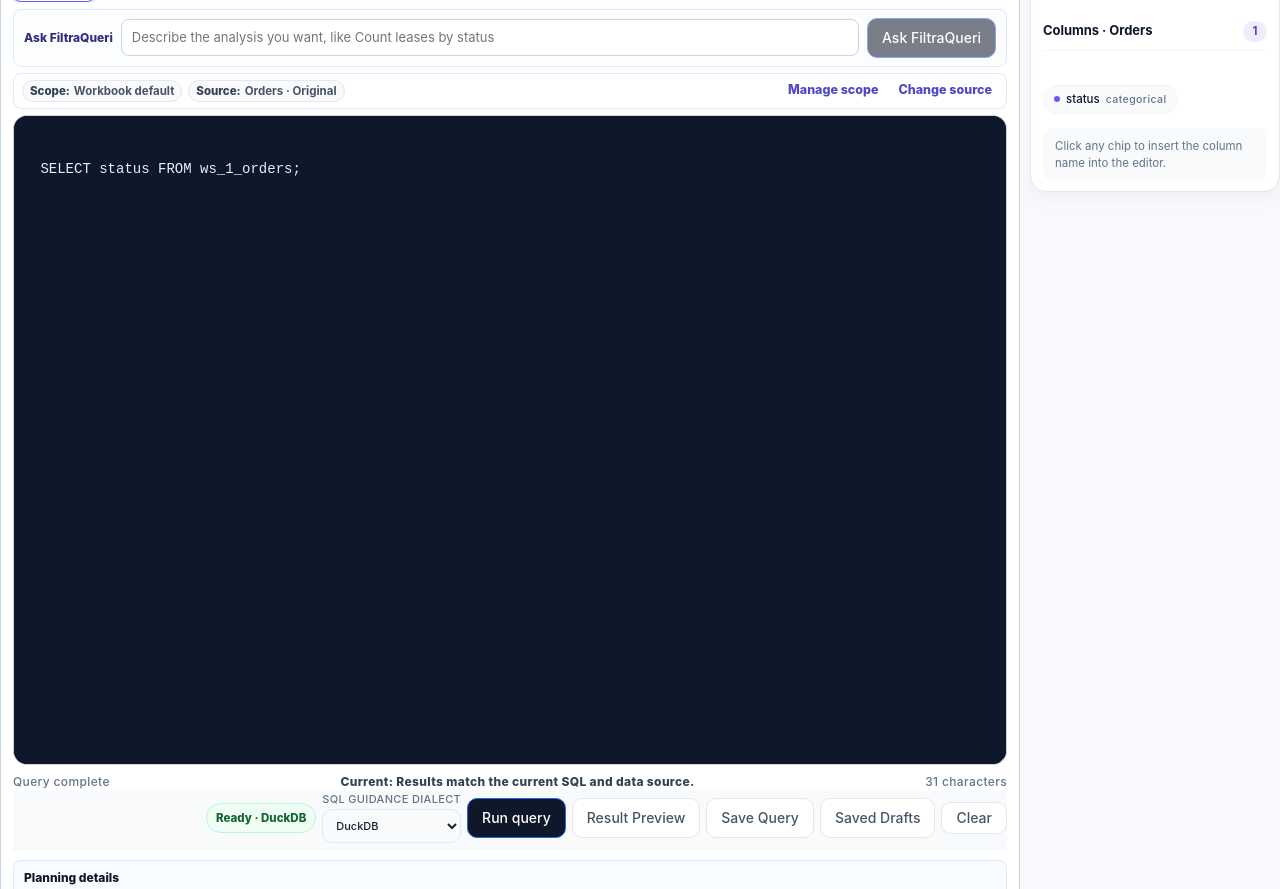
Test: SQL execution truthfulness UI › states that a successful zero-row query ran and returned 0 rows
(page scrolled)
Replace the text in the text box named "SQL query text" with "SELECT status FROM ws_1_orders WHERE status = 'Missing';": (510, 440) [14,116,1006,764]
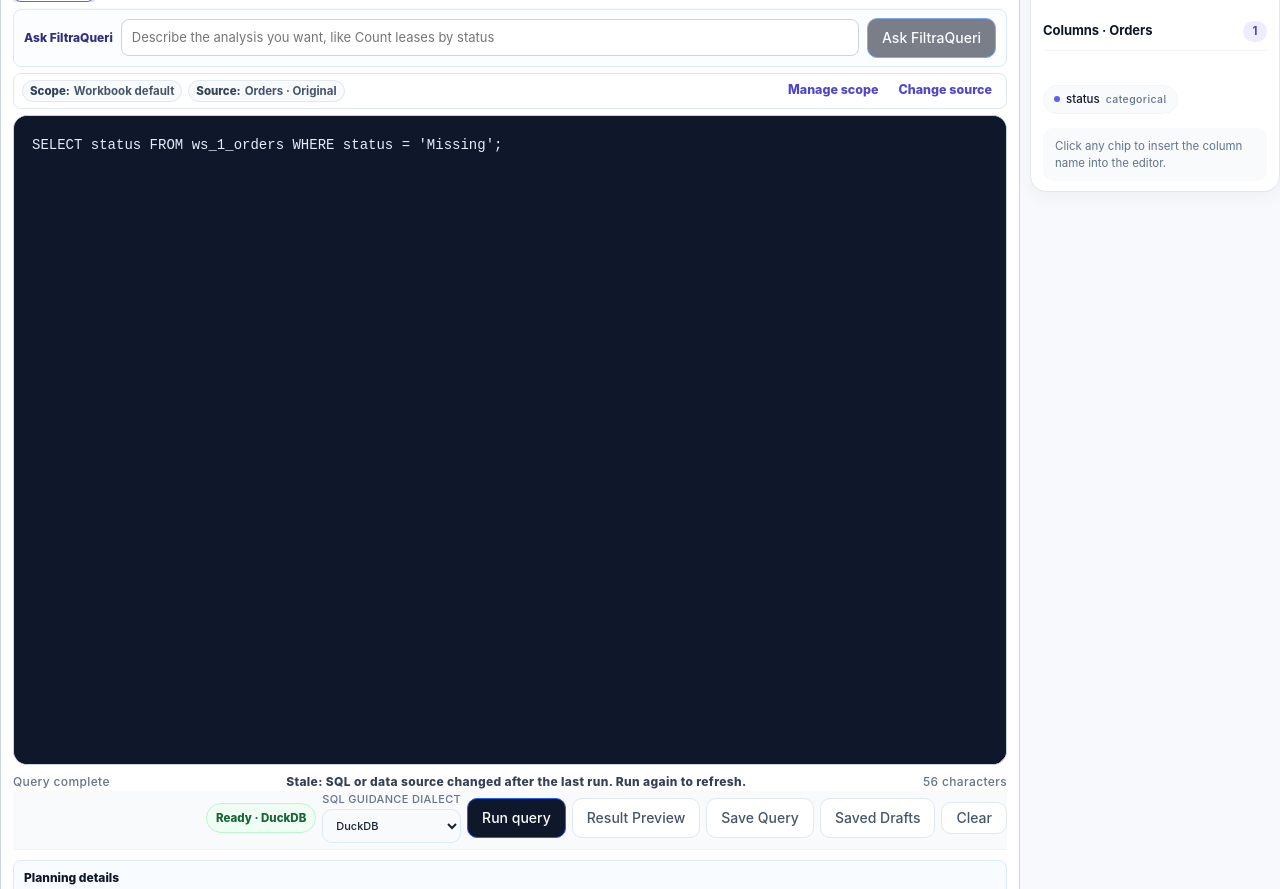
Click the button "Run query": (516, 818) [467,798,566,838]
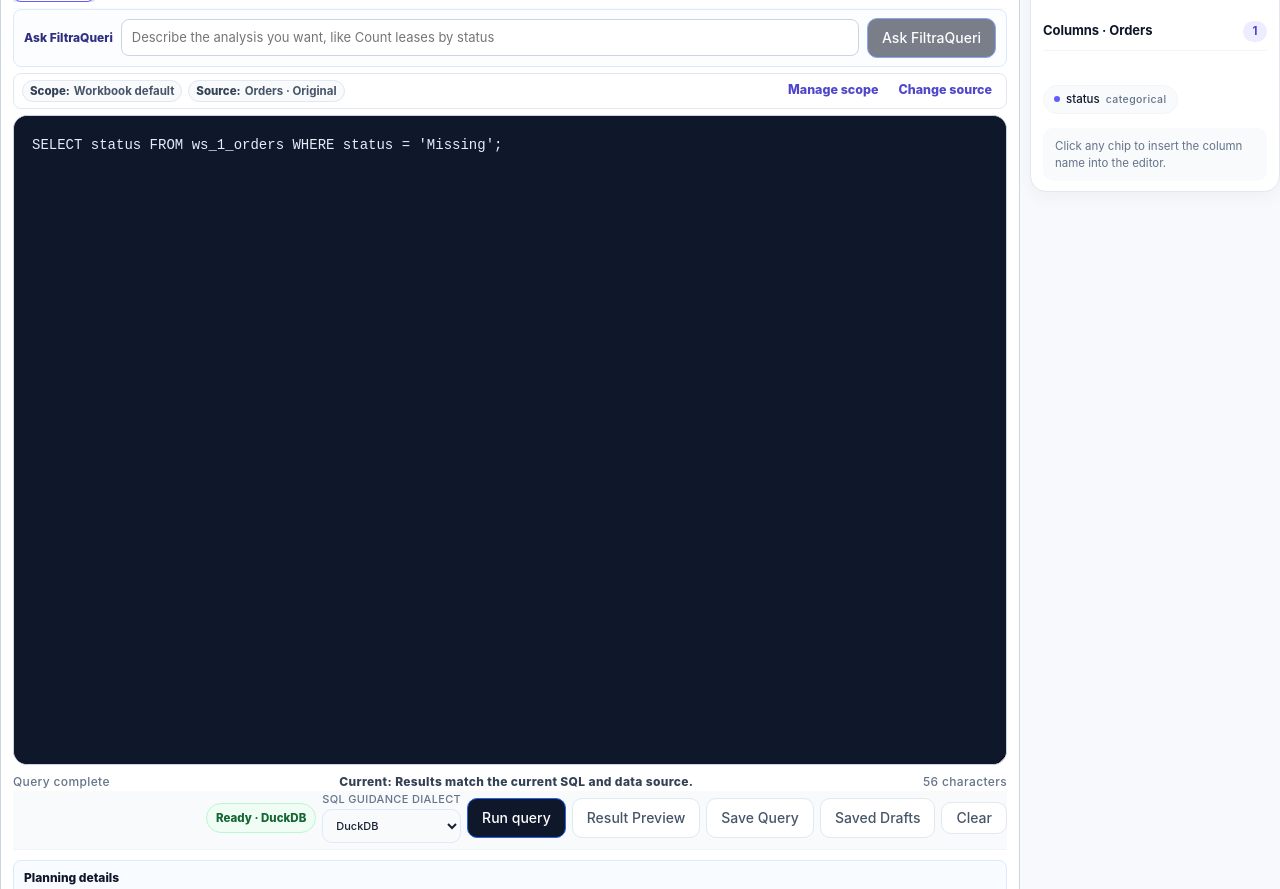
Now the text named "SQL execution status" shows "Current", box [339,774,388,789]
Click the button "Result Preview": (636, 818) [572,798,700,838]
(page scrolled)
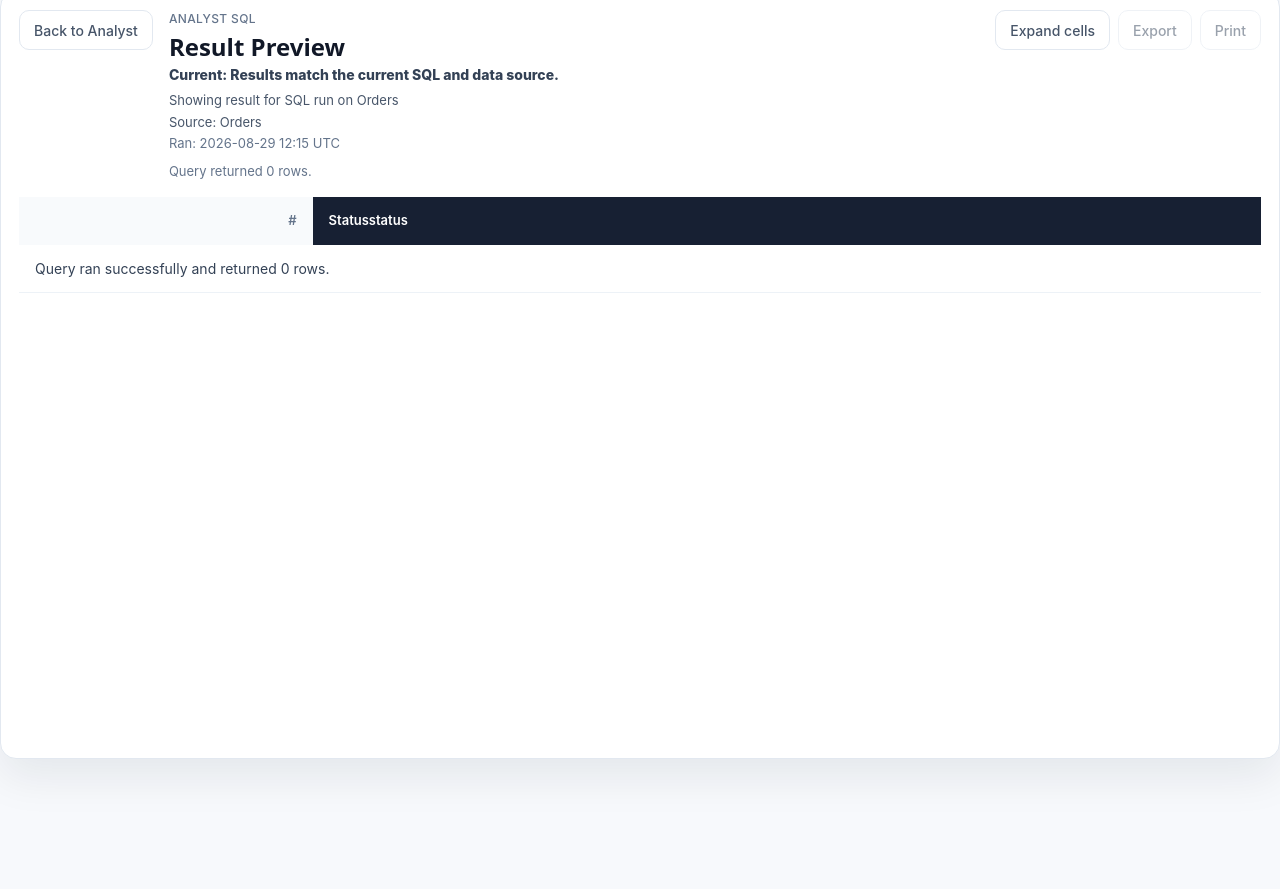
Now the text "Query ran successfully and returned 0 rows." is shown, box [19,245,1261,292]
